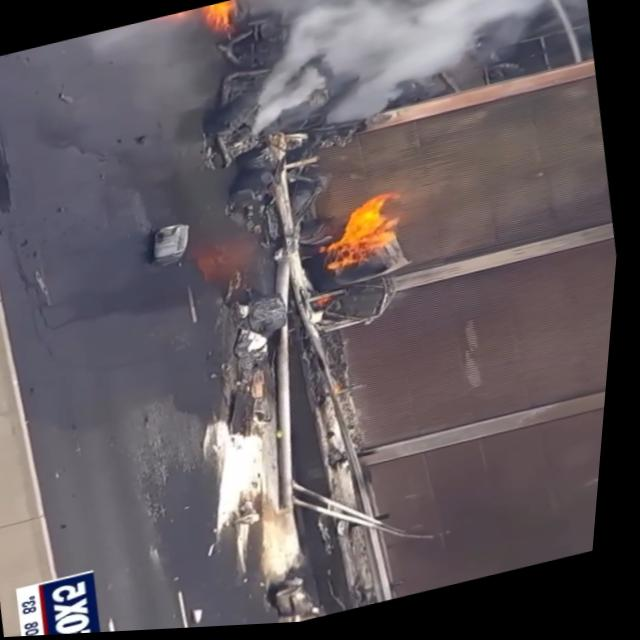Fire: (319, 197, 412, 274)
